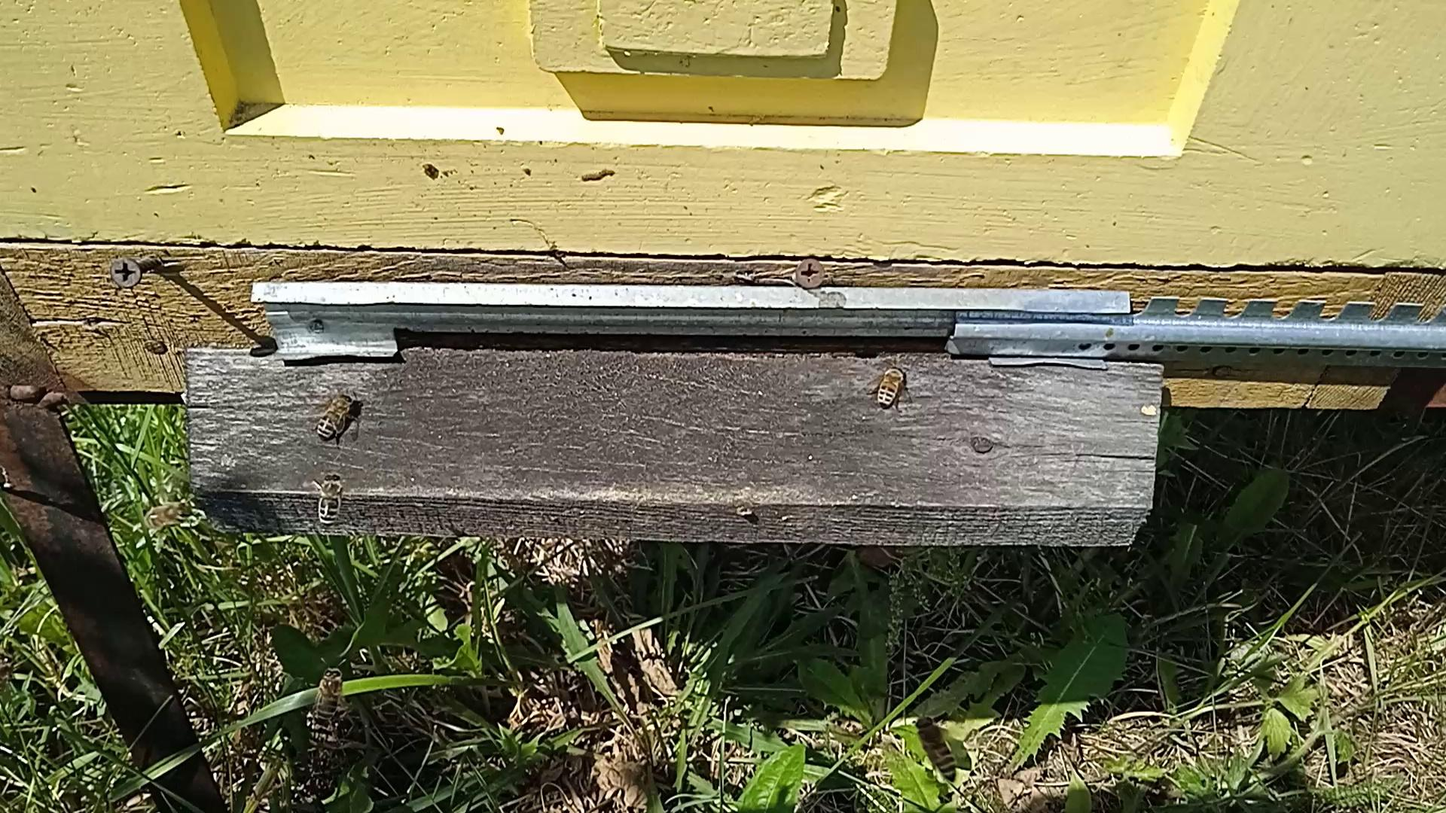worker-bee: (914, 715, 959, 781), (316, 390, 357, 441), (142, 500, 203, 531), (312, 667, 343, 726), (873, 362, 908, 409), (317, 472, 346, 527), (1, 655, 11, 693)
